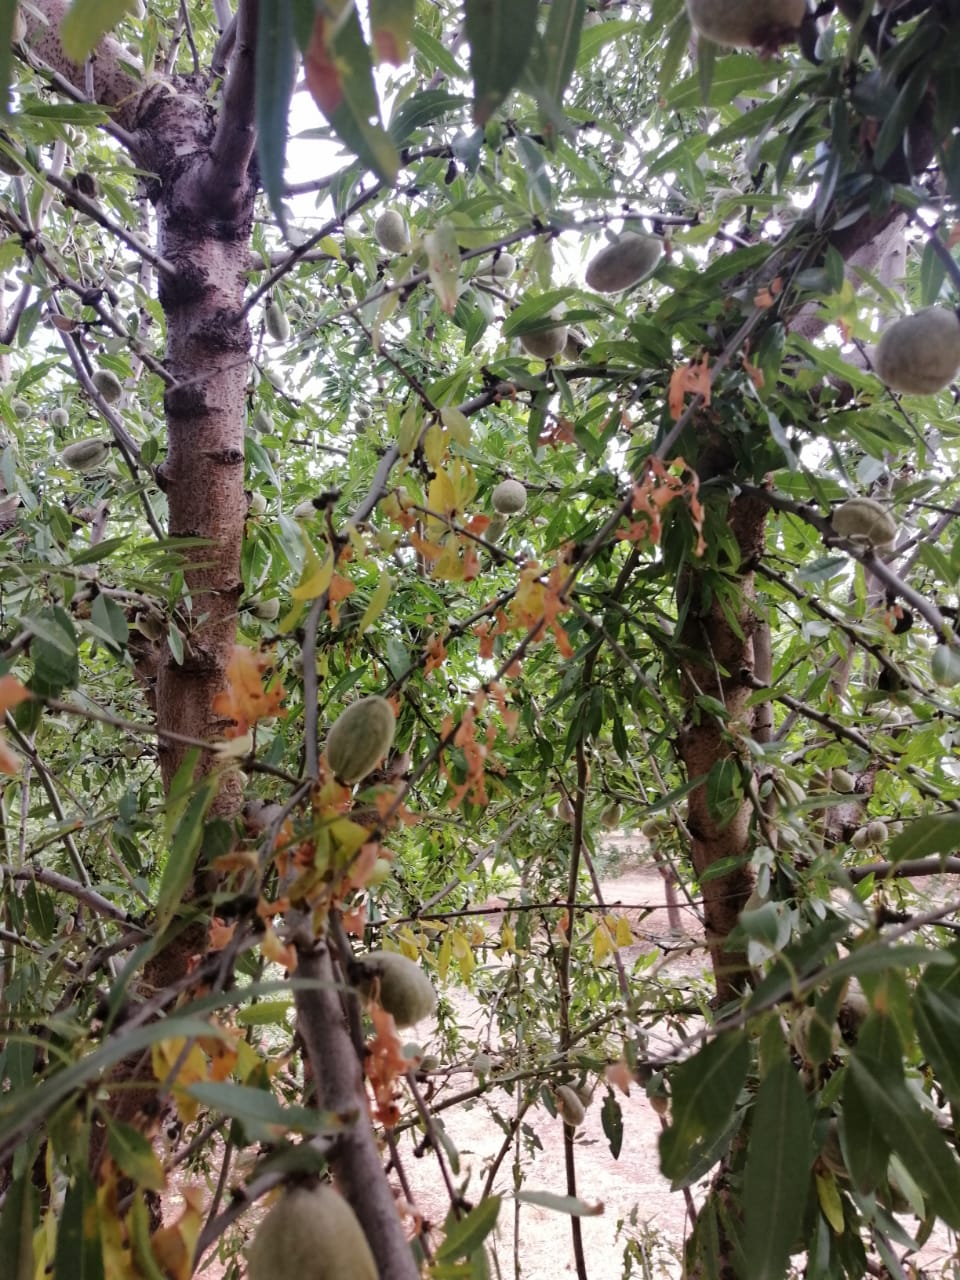chancre fusicocum: (369, 652, 526, 844), (391, 483, 503, 591), (611, 452, 715, 545)
